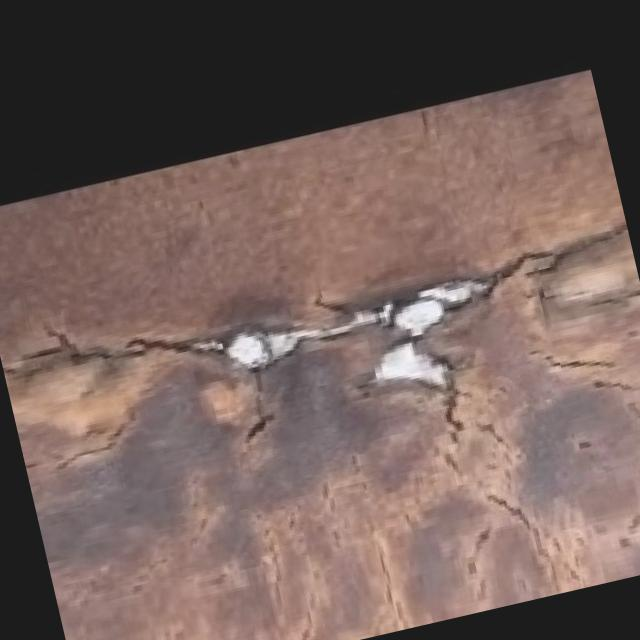crack: (58, 306, 194, 399), (494, 207, 604, 302), (236, 359, 318, 457), (428, 368, 498, 448)
